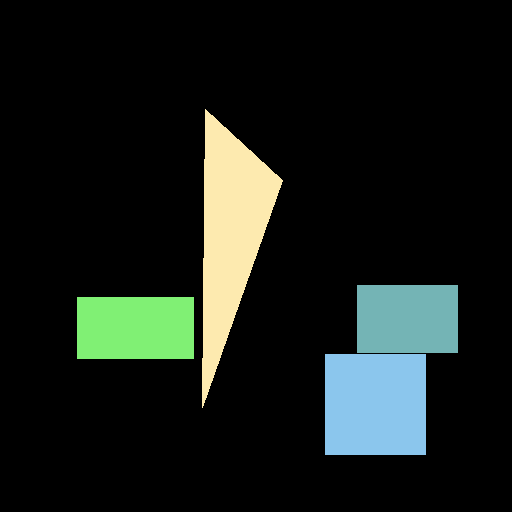rectangle: (77, 297, 193, 358), (357, 285, 457, 352)
square: (325, 354, 425, 454)
triangle: (202, 109, 282, 407)
